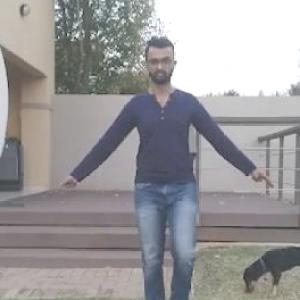land: (82, 56, 250, 299)
